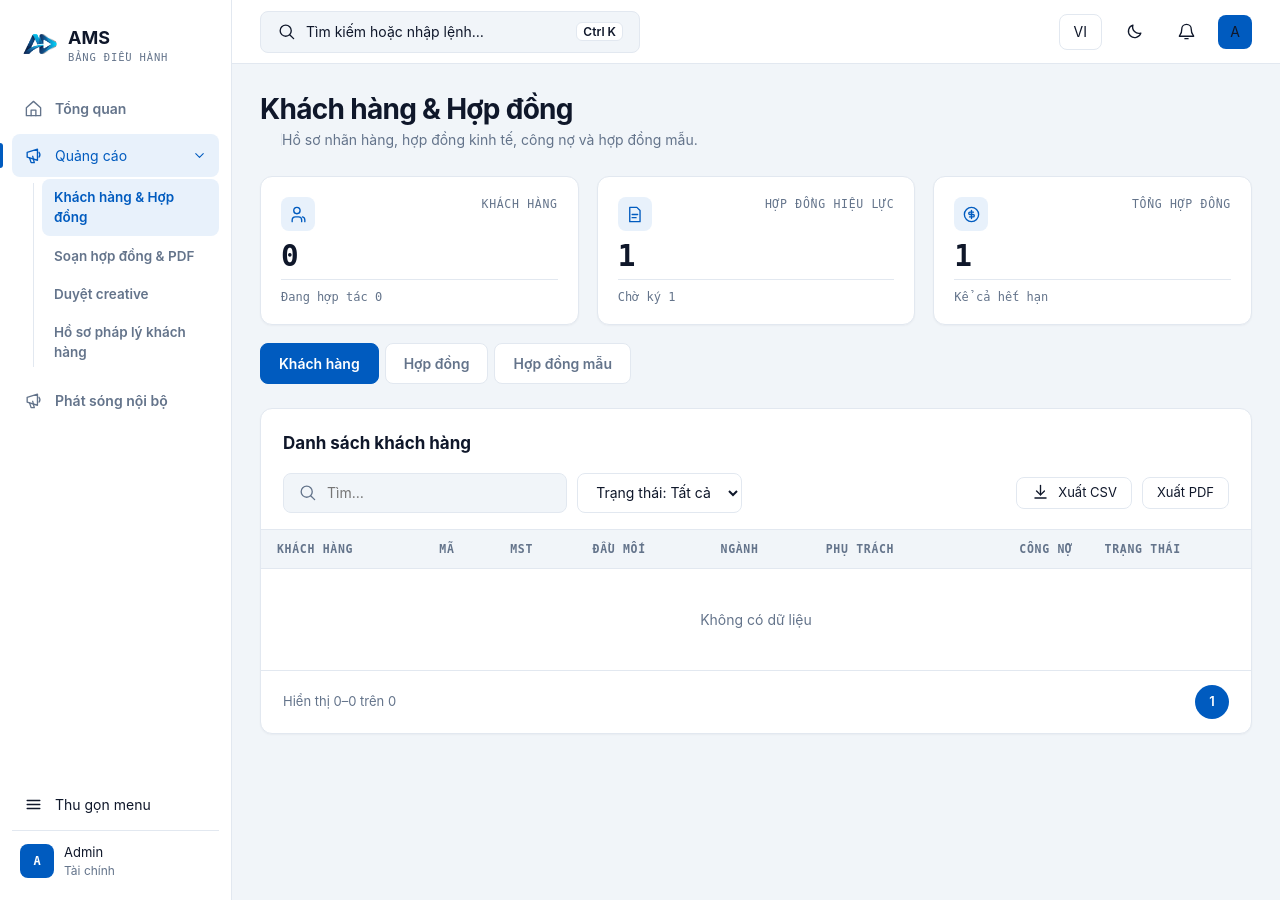
u1: dong gia hop dong › khong co finance:view -> khong co nut Dong gia
This screenshot has width=1280, height=900.
Click the button "Hợp đồng". click: (437, 364)
box: x1=385 y1=343 x2=488 y2=384
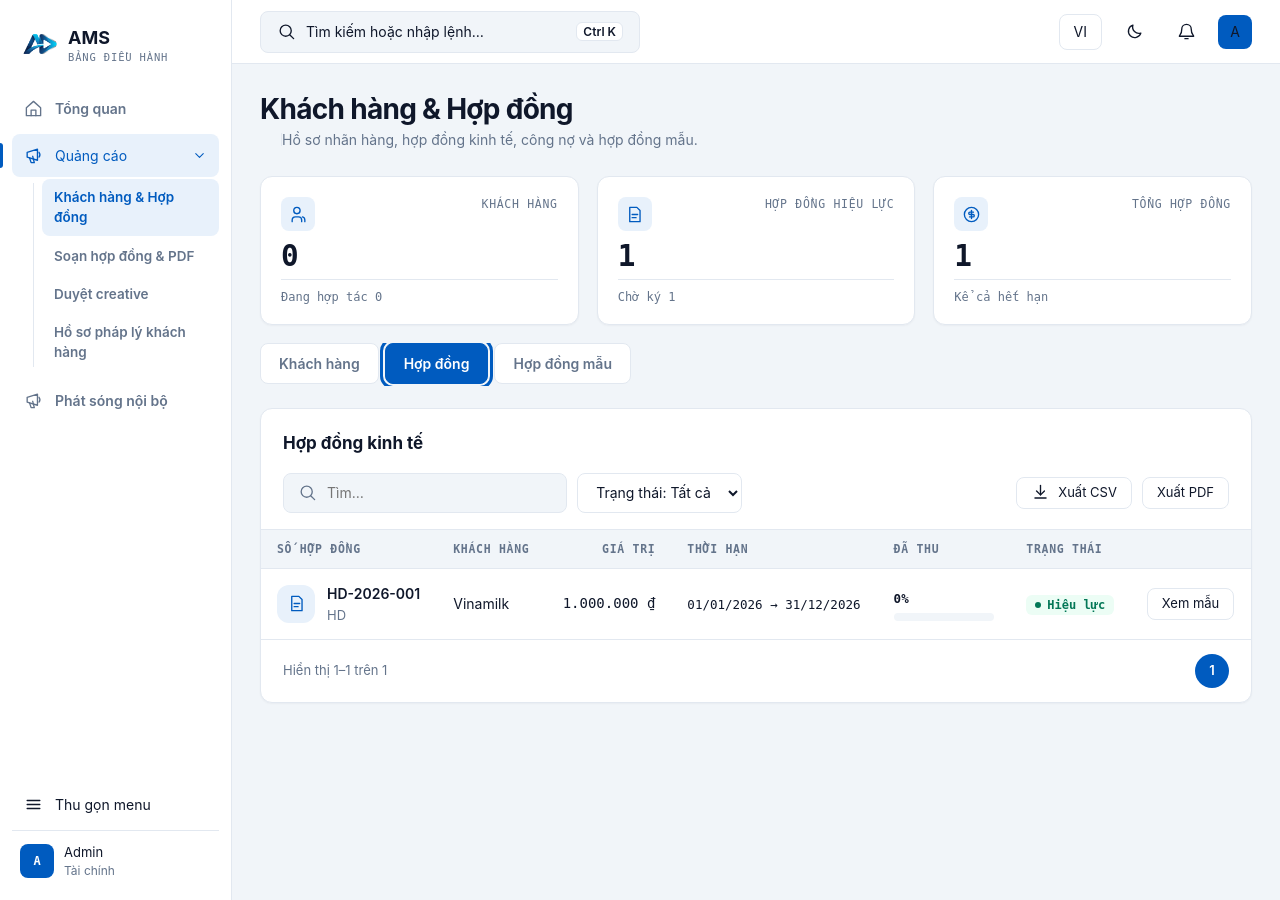
Check: the text "HD-2026-001" is shown, box x1=327 y1=582 x2=420 y2=604
